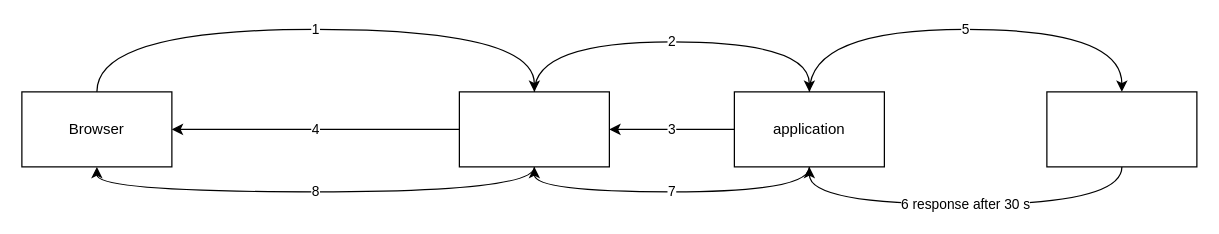
The diagram is 1219 pixels wide and 234 high, and some of its shapes have lost their labels. The shapes that lost their labels are listed below. From the top down, each one's centre as x and y in pixels, then its label:
At pixel 533 129: "nginx".
At pixel 1121 129: "old backend".
